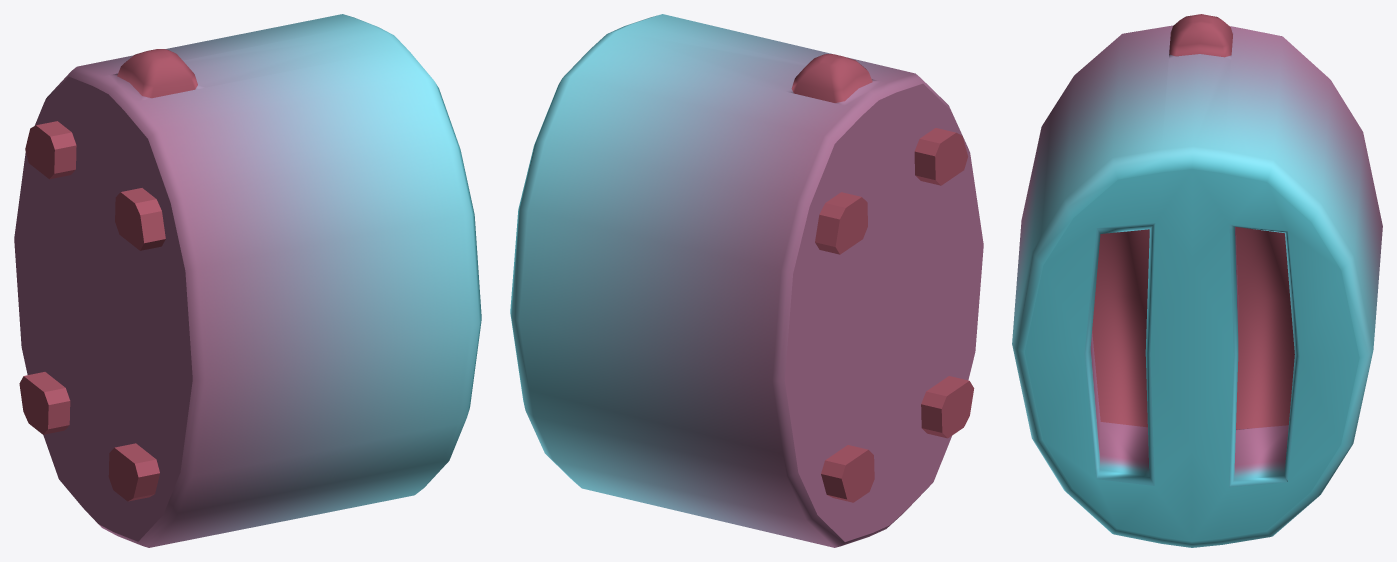
The model's file is ToasterTower.obj.
3 renders of one model, left to right at view 1: azimuth 30°, elevation 25°; view 2: azimuth 150°, elevation 25°; view 3: azimuth 270°, elevation 25°, orthographic. The views are drawn at different scales.
Parts seen in each view (by area): view 1: Toster4Tower; view 2: Toster4Tower; view 3: Toster4Tower.
Boxes of the visible parts, <box> form: Toster4Tower: <box>14,14,481,547</box>; Toster4Tower: <box>510,14,983,547</box>; Toster4Tower: <box>1012,14,1382,547</box>.
Size of the model in its own units: 2.78 by 3.89 by 3.01.
